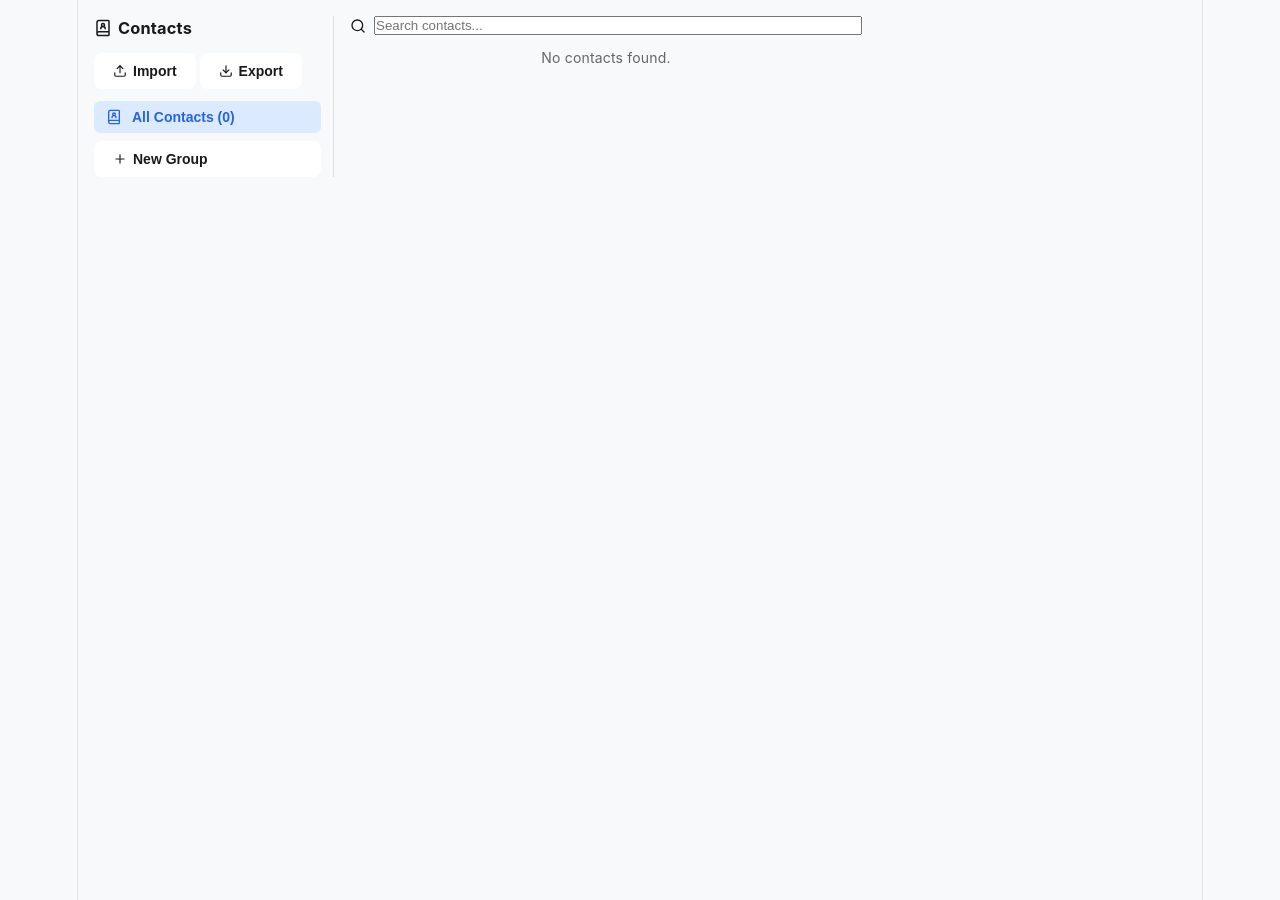
ContactsApp › shows import dialog when Import is clicked
Click the button "Import" at [145, 71], box [94, 53, 196, 89]
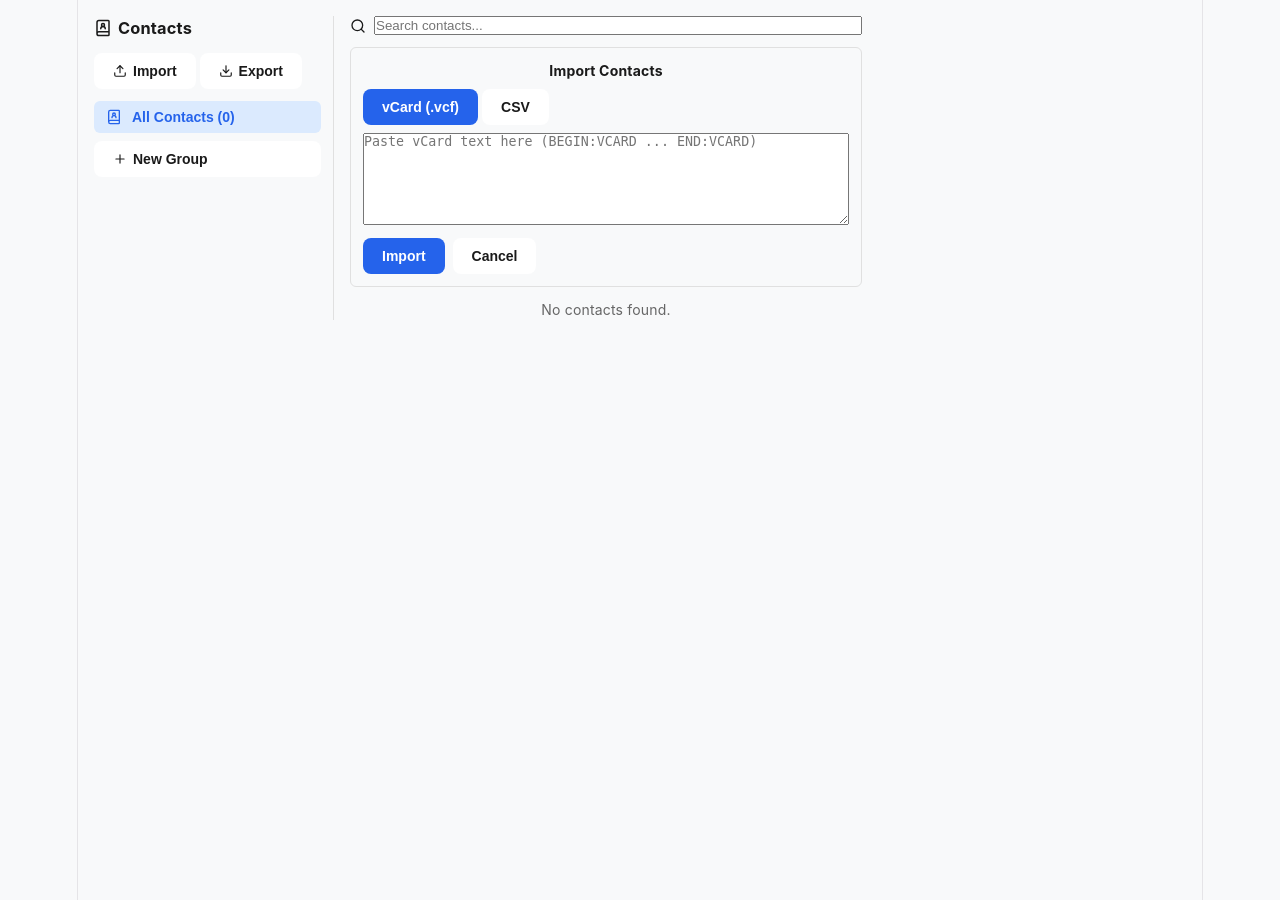
Expected: the heading "Import Contacts" is shown, [549, 62, 663, 79]
Expected: the text box with placeholder "Paste vCard text here (BEGIN:VCARD ... END:VCARD)" is shown, [363, 133, 849, 225]
